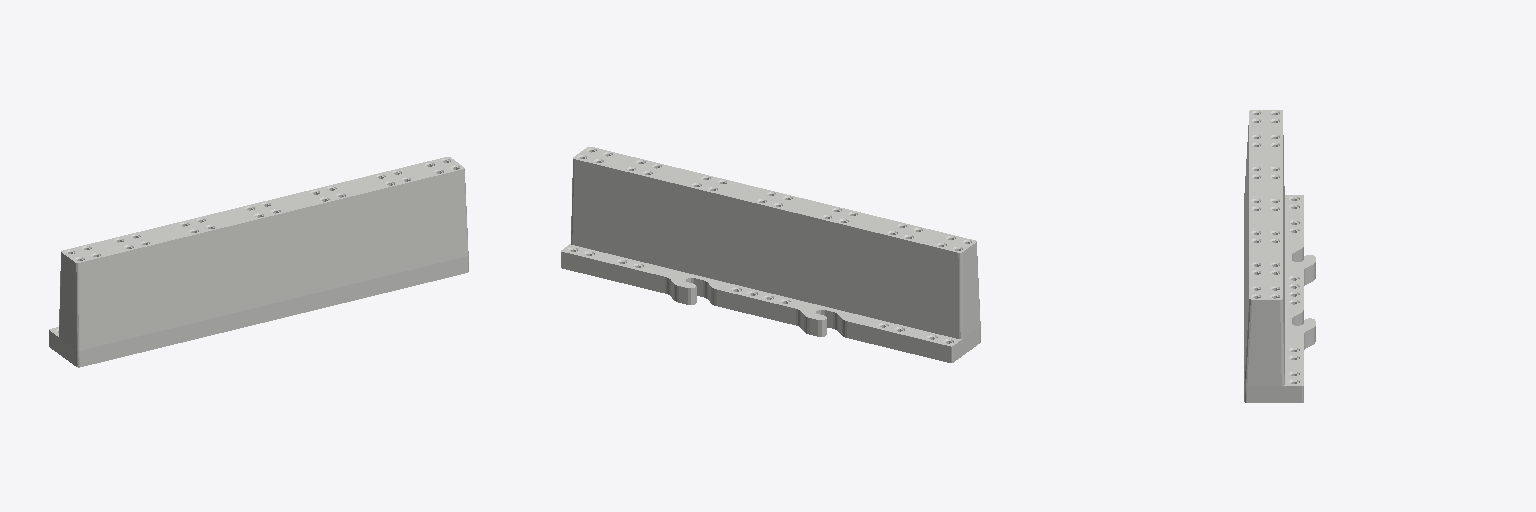
Rendered from VIQRC-MixAndMatch-H2H-_-GameObjects_Wall.obj.
The picture shows the model from 3 angles: view 1: azimuth 30°, elevation 25°; view 2: azimuth 150°, elevation 25°; view 3: azimuth 270°, elevation 25°; orthographic projection.
Parts seen in each view (by area): view 1: Body1; view 2: Body1; view 3: Body1.
Boxes of the visible parts, x1,y1,x2,y2 form: Body1: [49, 157, 468, 367]; Body1: [561, 147, 980, 362]; Body1: [1244, 110, 1315, 402].
Size of the model in its own units: 305 by 76.08 by 48.01.